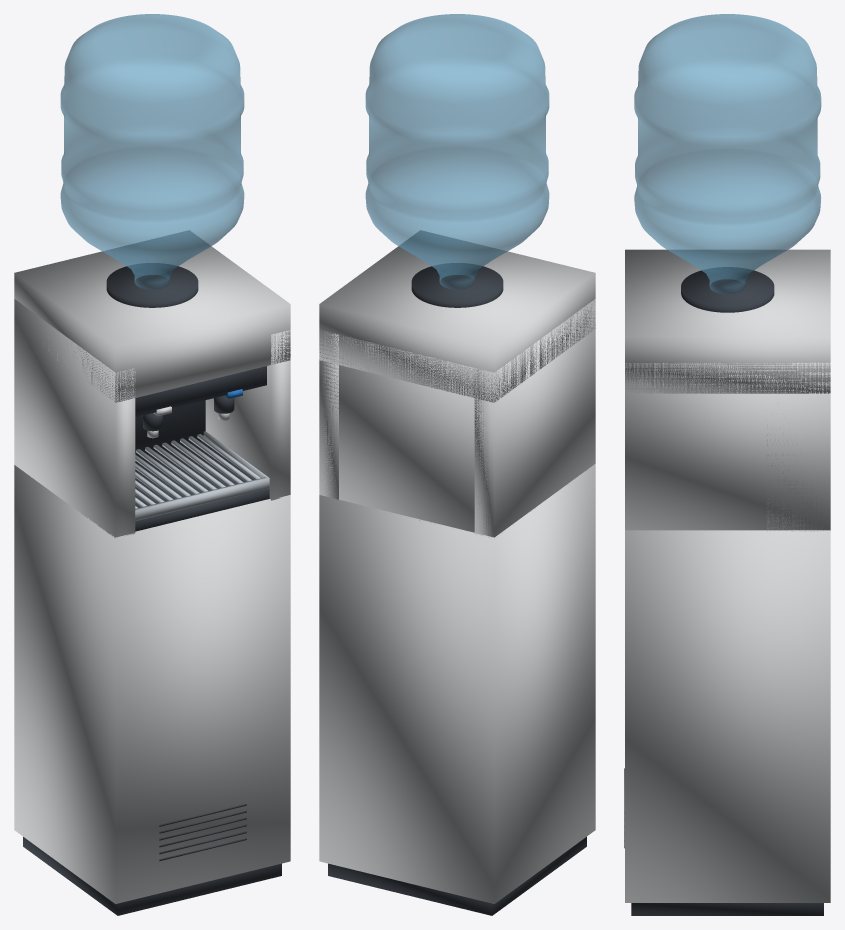
Rendered from bebedouro.glb.
3 views of the same model, side by side, from view 1: azimuth 30°, elevation 25°; view 2: azimuth 150°, elevation 25°; view 3: azimuth 270°, elevation 25° (orthographic).
Parts seen in each view (by area): view 1: Gabinete inferior, Galao invertido com nervuras, Cabecote superior, Lateral do nicho, Lateral do nicho.001, Encaixe do galao, Reservatorio da bandeja, Rodape, Painel de comandos, Fundo do nicho, Borda transversal bandeja; view 2: Gabinete inferior, Galao invertido com nervuras, Cabecote superior, Parede traseira, Lateral do nicho, Encaixe do galao, Rodape, Lateral do nicho.001; view 3: Gabinete inferior, Galao invertido com nervuras, Lateral do nicho.001, Cabecote superior, Encaixe do galao, Rodape, Parede traseira.
Part boxes in pixels (x1,y1,x2,y2): Gabinete inferior: (14,465,290,903); Galao invertido com nervuras: (60,14,244,289); Cabecote superior: (14,230,290,402); Lateral do nicho: (14,299,135,537); Lateral do nicho.001: (205,330,290,500); Encaixe do galao: (106,263,198,307); Reservatorio da bandeja: (135,441,269,531); Rodape: (23,837,281,915); Painel de comandos: (135,366,266,417); Fundo do nicho: (135,400,205,456); Borda transversal bandeja: (135,477,269,520); Gabinete inferior: (319,464,595,903); Galao invertido com nervuras: (365,14,549,289); Cabecote superior: (319,230,595,402); Parede traseira: (319,331,512,537); Lateral do nicho: (474,299,595,537); Encaixe do galao: (411,263,503,307); Rodape: (328,837,586,915); Lateral do nicho.001: (319,330,338,500); Gabinete inferior: (625,530,830,902); Galao invertido com nervuras: (634,14,821,294); Lateral do nicho.001: (625,362,830,531); Cabecote superior: (625,249,830,393); Encaixe do galao: (681,267,774,312); Rodape: (631,903,823,915); Parede traseira: (766,395,829,531).
Bounding box in the file's own units: 0.32 × 1.43 × 0.3207.
